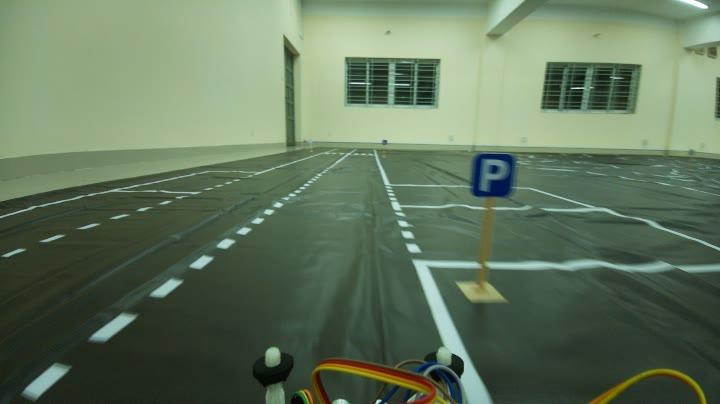parking: (466, 151, 523, 197)
